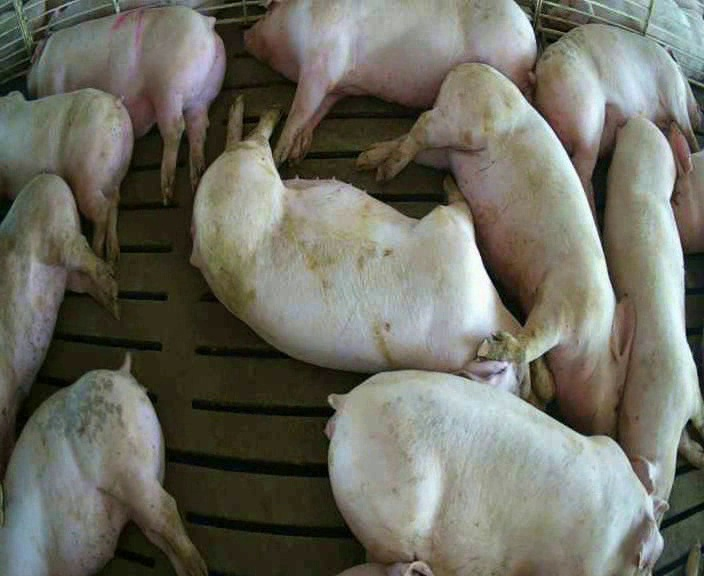pig: (192, 97, 556, 410), (358, 63, 635, 434), (327, 370, 668, 574), (245, 1, 536, 163), (0, 356, 206, 574), (28, 6, 225, 203), (604, 117, 703, 501), (529, 24, 699, 208)
